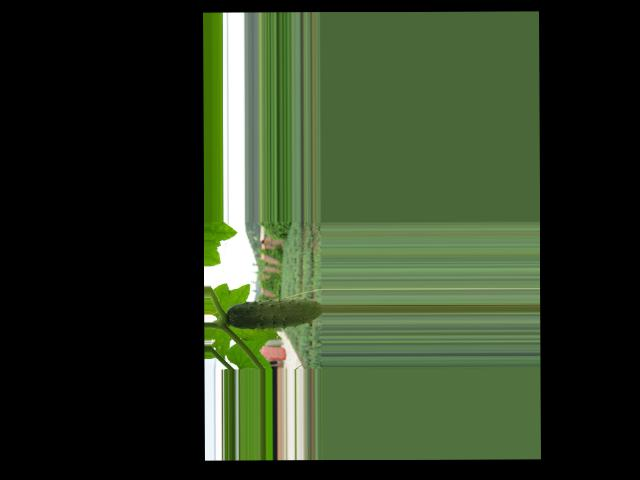cucumber: (226, 298, 322, 329)
